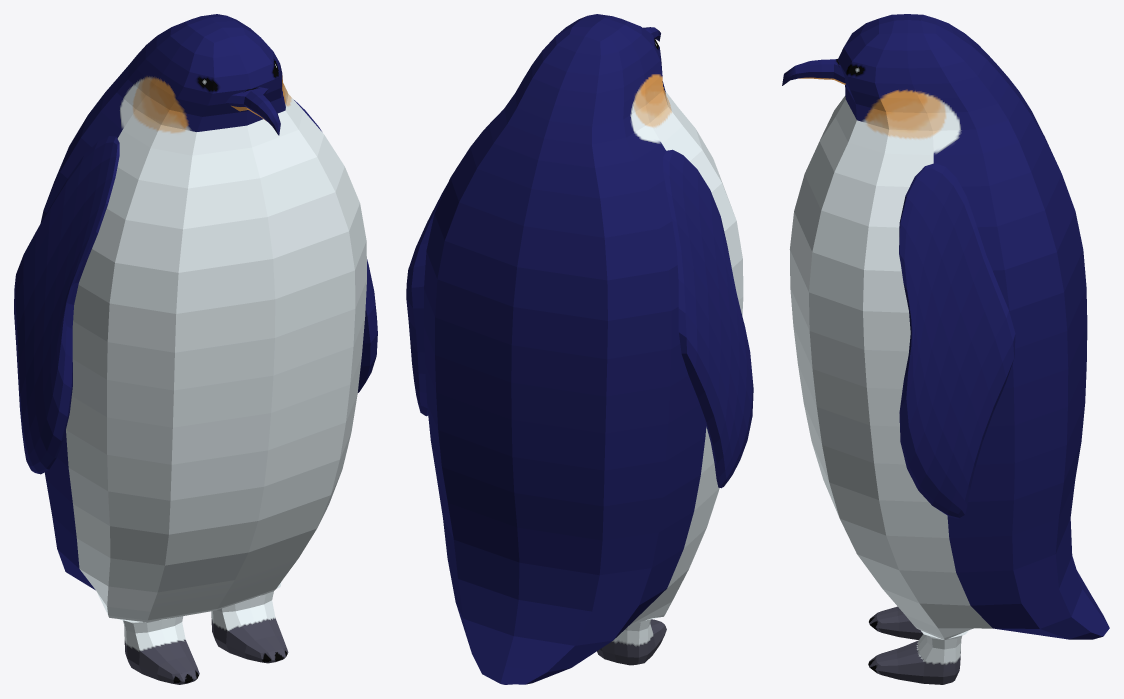
Rendered from Penguin.fbx.
The picture shows the model from 3 angles, left to right: view 1: azimuth 30°, elevation 25°; view 2: azimuth 150°, elevation 25°; view 3: azimuth 270°, elevation 25°; orthographic projection. The views are drawn at different scales.
Parts seen in each view (by area): view 1: body_P; view 2: body_P; view 3: body_P.
Boxes of the visible parts, x1,y1,x2,y2 form: body_P: (14,14,377,684); body_P: (406,14,753,684); body_P: (782,14,1109,684).
Bounding box in the file's own units: 90.56 × 169 × 78.71.
